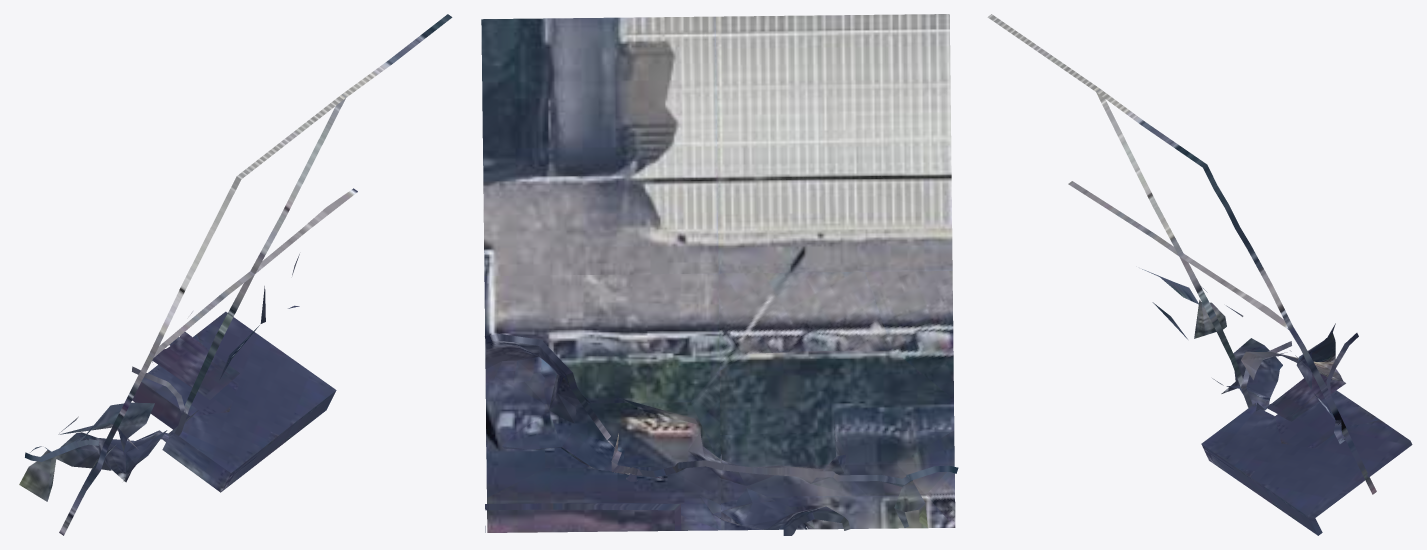
3 renders of one model, left to right at view 1: azimuth 30°, elevation 25°; view 2: azimuth 150°, elevation 25°; view 3: azimuth 270°, elevation 25°, orthographic. The views are drawn at different scales.
Bounding box in the file's own units: 39.81 × 36.97 × 35.52.
1 material, 1 textured.
